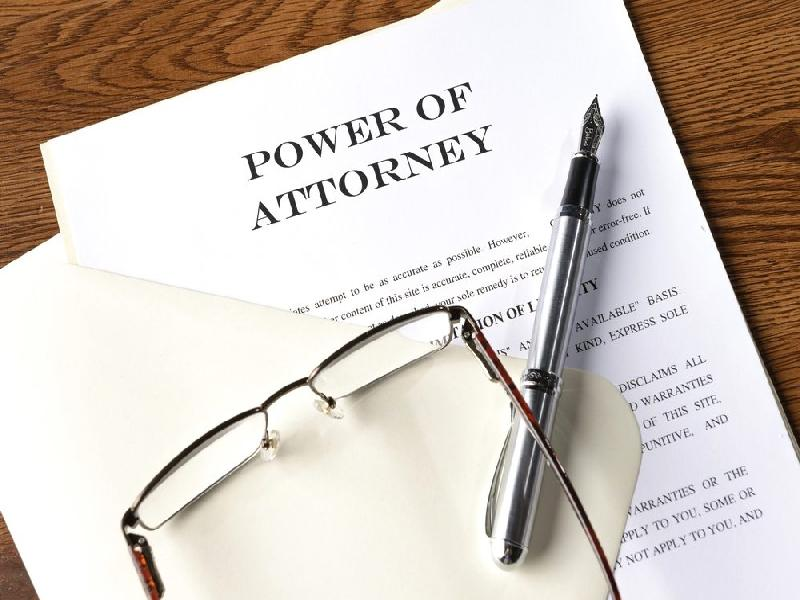pen: (473, 87, 616, 575)
